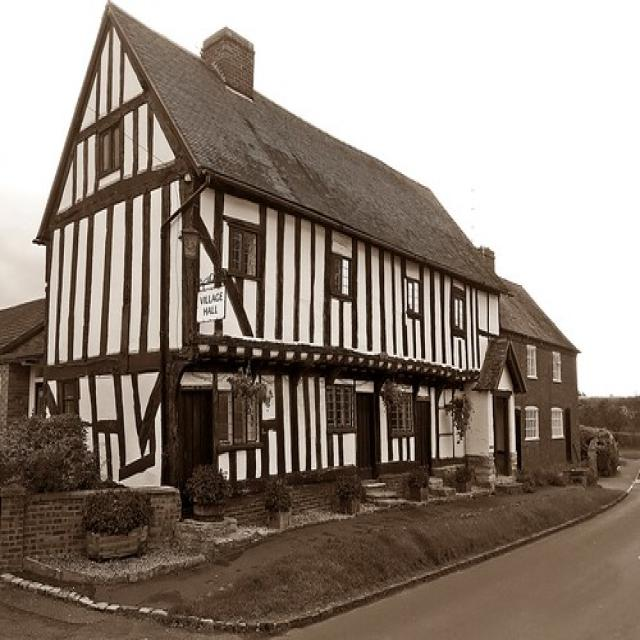building: (35, 3, 508, 550), (495, 275, 589, 491)
